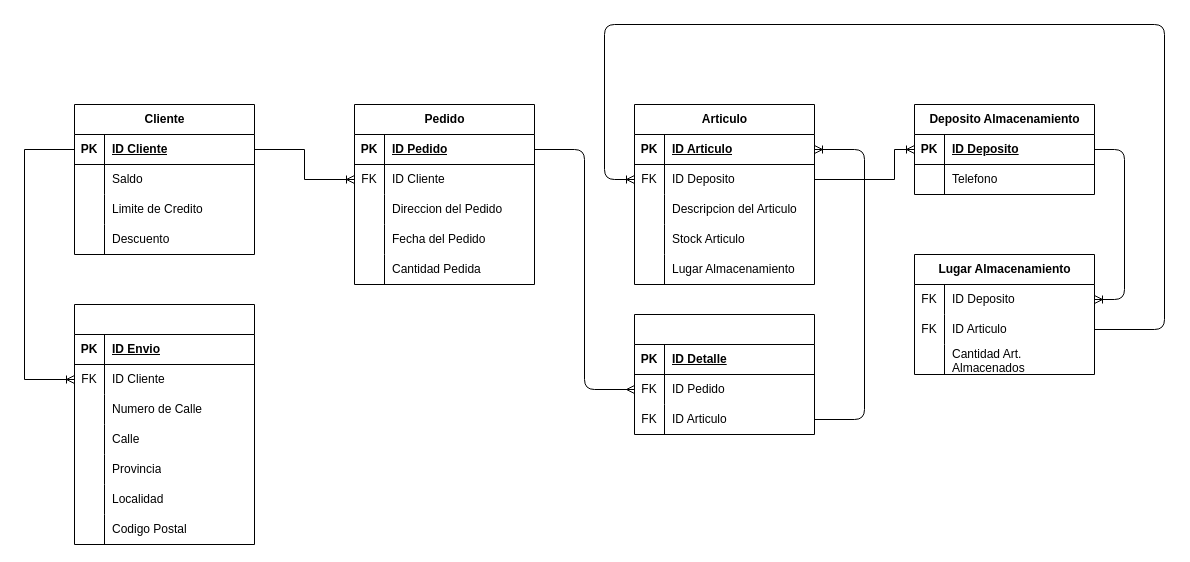
This 1190x562 diagram has some shape labels left out. The box of each missing label's shape, as (x1, y1, x2, y2) in pixels:
Detalle Pedido: (634, 314, 814, 434)
Direccion de Envio: (74, 304, 254, 544)
